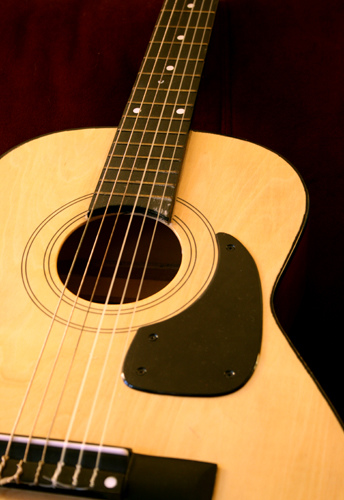guitar: (1, 1, 344, 500)
